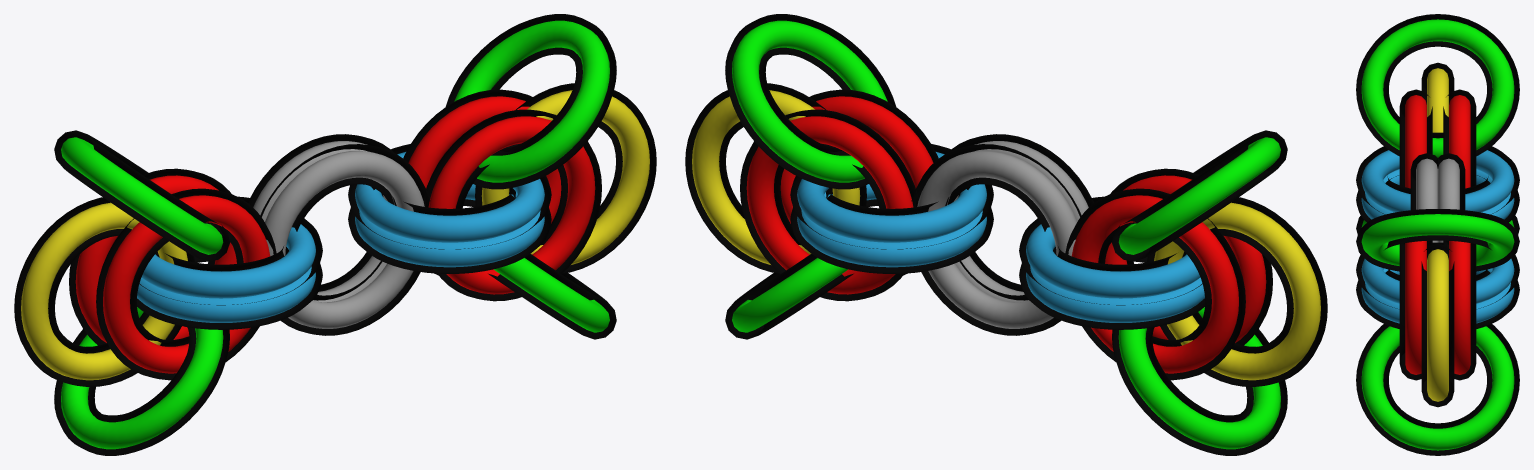
The model's file is sunburst_tutorial_03.glb.
3 views of the same model, side by side, from view 1: azimuth 30°, elevation 25°; view 2: azimuth 150°, elevation 25°; view 3: azimuth 270°, elevation 25° (orthographic). The views are drawn at different scales.
Parts seen in each view (by area): view 1: Torus.527, Torus.512, Torus.516, Torus.524, Torus.517, Torus.519, Torus.523, Torus.520, Torus.521, Torus.514, Torus.522, Torus.515 (+4 smaller); view 2: Torus.527, Torus.513, Torus.516, Torus.525, Torus.518, Torus.519, Torus.523, Torus.520, Torus.521, Torus.514, Torus.522, Torus.515 (+4 smaller); view 3: Torus.520, Torus.526, Torus.527, Torus.523, Torus.514, Torus.524, Torus.525, Torus.521, Torus.517, Torus.518, Torus.522, Torus.516 (+4 smaller).
Boxes of the visible parts, x1=… form: Torus.527: x1=445, y1=14, x2=616, y2=189; Torus.512: x1=260, y1=144, x2=430, y2=335; Torus.516: x1=14, y1=197, x2=195, y2=386; Torus.524: x1=423, y1=109, x2=601, y2=301; Torus.517: x1=96, y1=188, x2=276, y2=380; Torus.519: x1=54, y1=307, x2=229, y2=455; Torus.523: x1=475, y1=83, x2=656, y2=273; Torus.520: x1=54, y1=130, x2=229, y2=261; Torus.521: x1=348, y1=144, x2=551, y2=249; Torus.514: x1=139, y1=196, x2=322, y2=305; Torus.522: x1=348, y1=184, x2=551, y2=273; Torus.515: x1=136, y1=256, x2=322, y2=329; Torus.527: x1=725, y1=14, x2=896, y2=189; Torus.513: x1=911, y1=144, x2=1081, y2=335; Torus.516: x1=1146, y1=197, x2=1327, y2=386; Torus.525: x1=740, y1=109, x2=918, y2=301; Torus.518: x1=1065, y1=188, x2=1245, y2=380; Torus.519: x1=1112, y1=307, x2=1287, y2=455; Torus.523: x1=685, y1=83, x2=866, y2=273; Torus.520: x1=1112, y1=130, x2=1287, y2=261; Torus.521: x1=790, y1=144, x2=993, y2=249; Torus.514: x1=1019, y1=196, x2=1202, y2=305; Torus.522: x1=790, y1=184, x2=993, y2=273; Torus.515: x1=1019, y1=256, x2=1205, y2=329; Torus.520: x1=1356, y1=14, x2=1519, y2=157; Torus.526: x1=1356, y1=324, x2=1519, y2=455; Torus.527: x1=1356, y1=209, x2=1519, y2=271; Torus.523: x1=1421, y1=243, x2=1454, y2=407; Torus.514: x1=1356, y1=146, x2=1519, y2=214; Torus.524: x1=1399, y1=240, x2=1432, y2=380; Torus.525: x1=1443, y1=240, x2=1476, y2=380; Torus.521: x1=1356, y1=255, x2=1519, y2=308; Torus.517: x1=1399, y1=89, x2=1432, y2=188; Torus.518: x1=1443, y1=89, x2=1476, y2=188; Torus.522: x1=1356, y1=268, x2=1519, y2=328; Torus.516: x1=1421, y1=62, x2=1454, y2=132.
Size of the model in its own units: 10.84 by 4.93 by 3.
